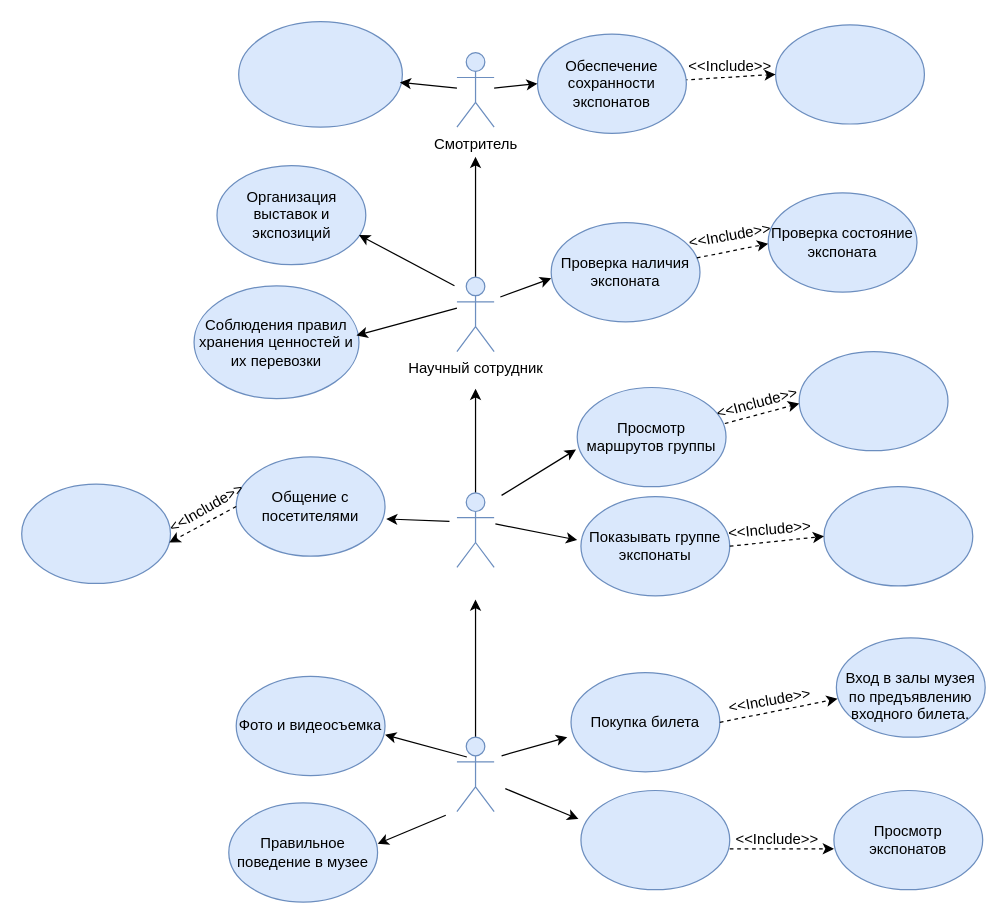
Image size: 1007x924. Some labels were removed from this diagram. Here are the shapes that lost their labels. From the top down, the centre of each, then its label:
At point (319, 73): "Смотреть чтобы посетители музея не нарушали правил поведения".
At point (849, 74): "Следить чтобы не украли экспонаты".
At point (873, 400): "Проведение группы по залам".
At point (95, 533): "Донести смысл автора до посетителей".
At point (475, 529): "Экскурсовод".
At point (898, 535): "Рассказать историю экспоната".
At point (475, 774): "Посетитель".
At point (655, 839): "Следовать за э кскурсоводом".
